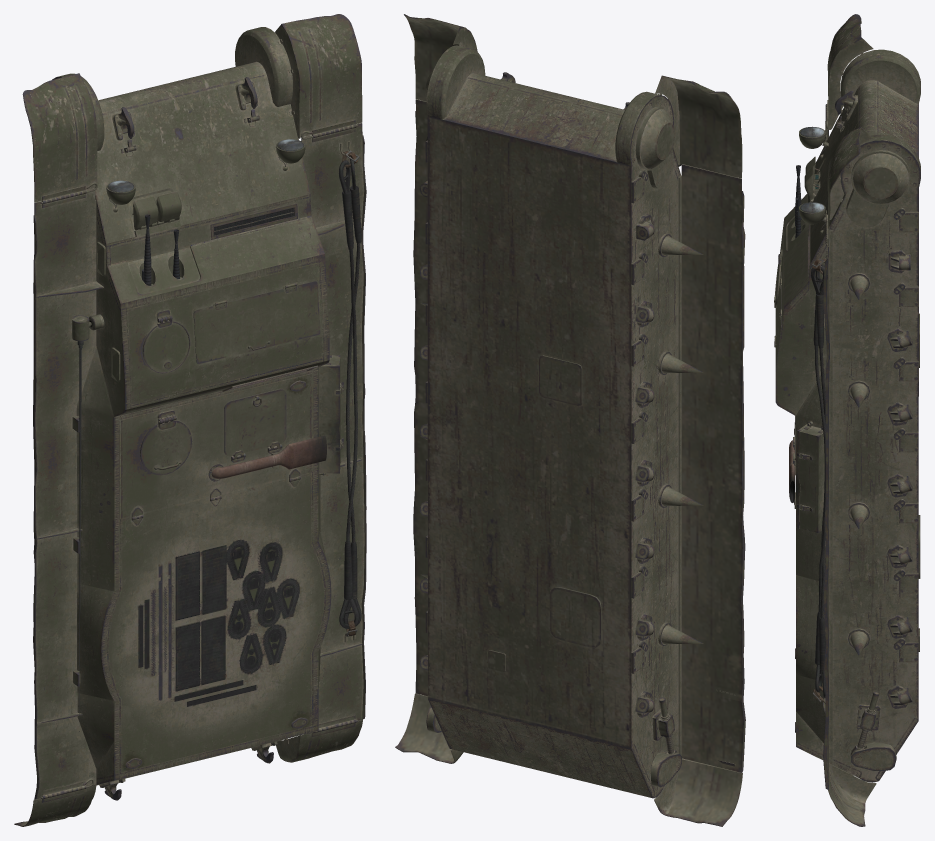
Rendered from Hull.glb.
The picture shows the model from 3 angles, left to right: view 1: azimuth 30°, elevation 25°; view 2: azimuth 150°, elevation 25°; view 3: azimuth 270°, elevation 25°; orthographic projection. The views are drawn at different scales.
Visible parts, largest first — view 1: set_0_group_0; view 2: set_0_group_0; view 3: set_0_group_0.
Part boxes in pixels (left/top/right/bottom): set_0_group_0: left=14, top=14, right=366, bottom=826; set_0_group_0: left=395, top=14, right=745, bottom=826; set_0_group_0: left=774, top=14, right=920, bottom=826.
Size of the model in its own units: 3.12 by 6.65 by 1.31.
Materials: 1 (1 with a texture image).
